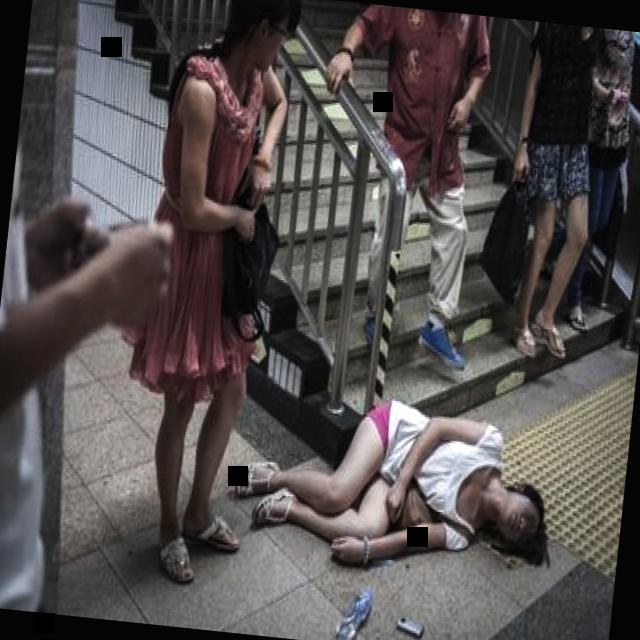Fall-Detected: (216, 360, 572, 606)
